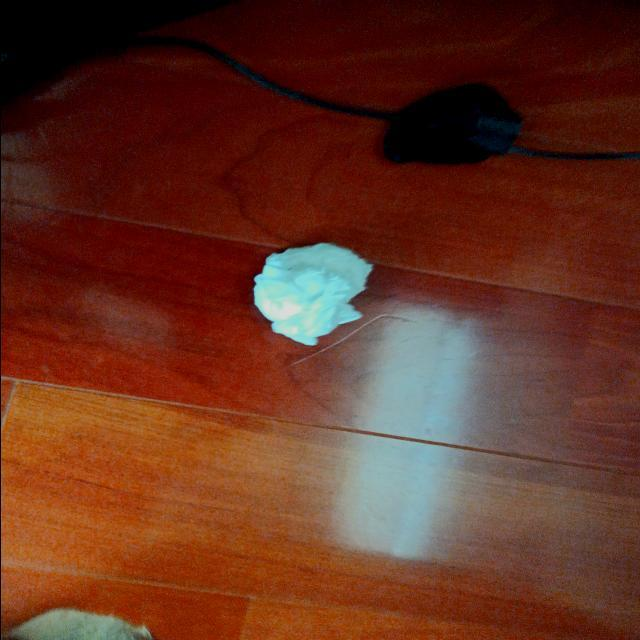Paper: (241, 227, 367, 344)
